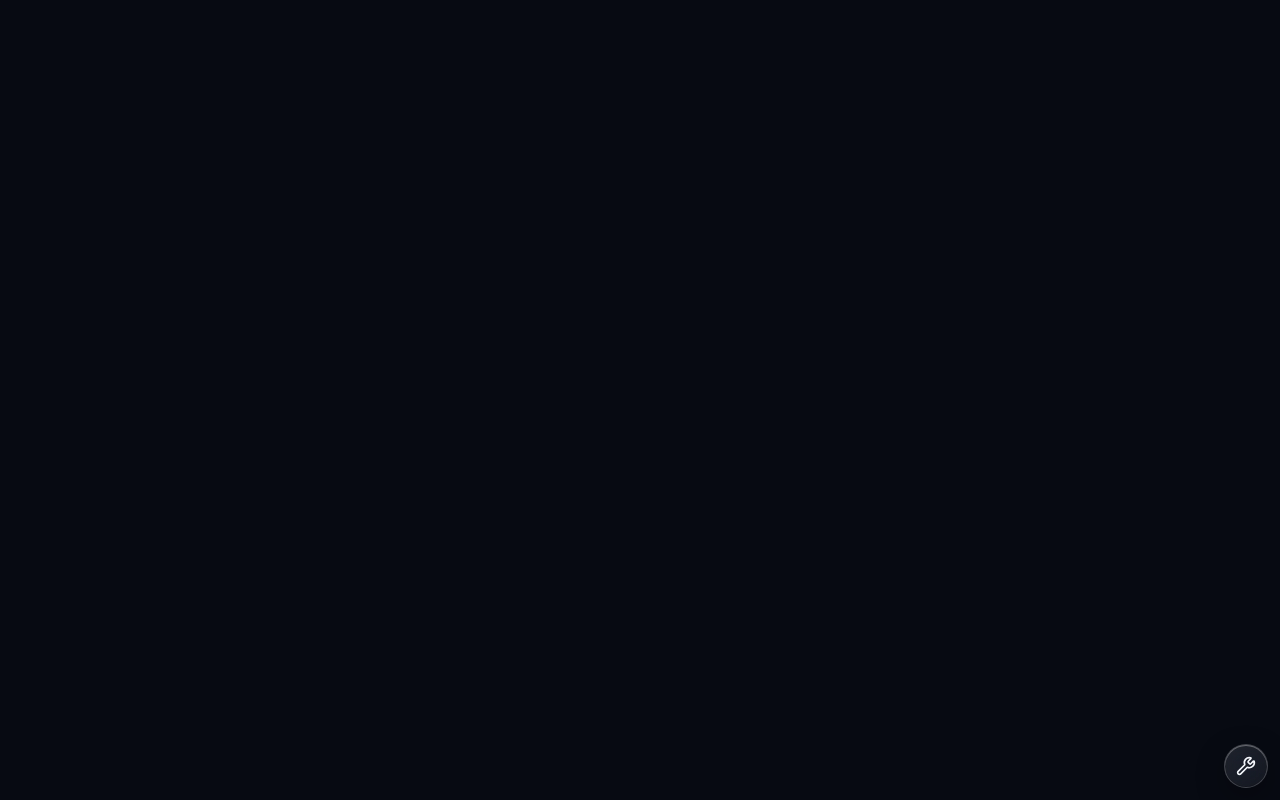
Test case: TestConsole › calls the health endpoint and lists its request ID
The width and height of the screenshot is (1280, 800).
Click the button named "Open dev test console": x=1246, y=766 [1224,744,1268,788]
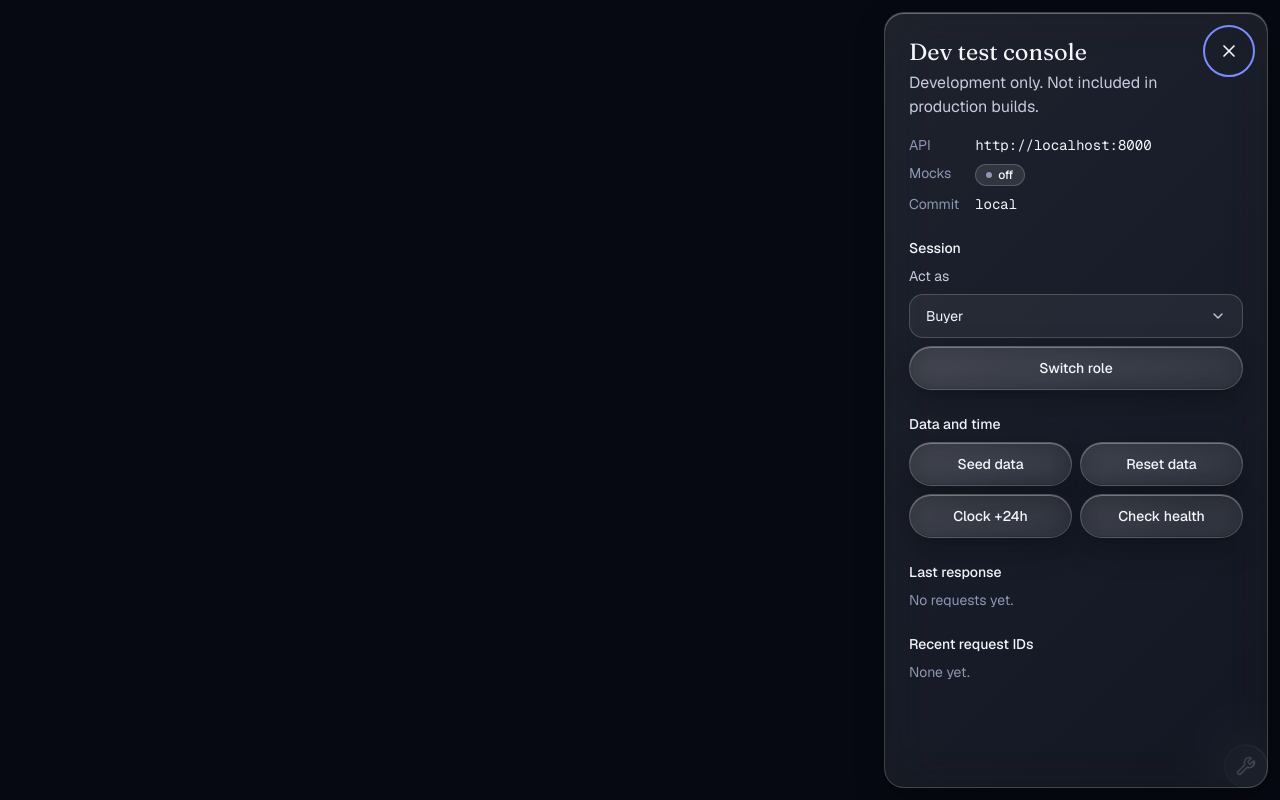
Click the button "Check health": x=1162, y=516 [1080,494,1243,538]
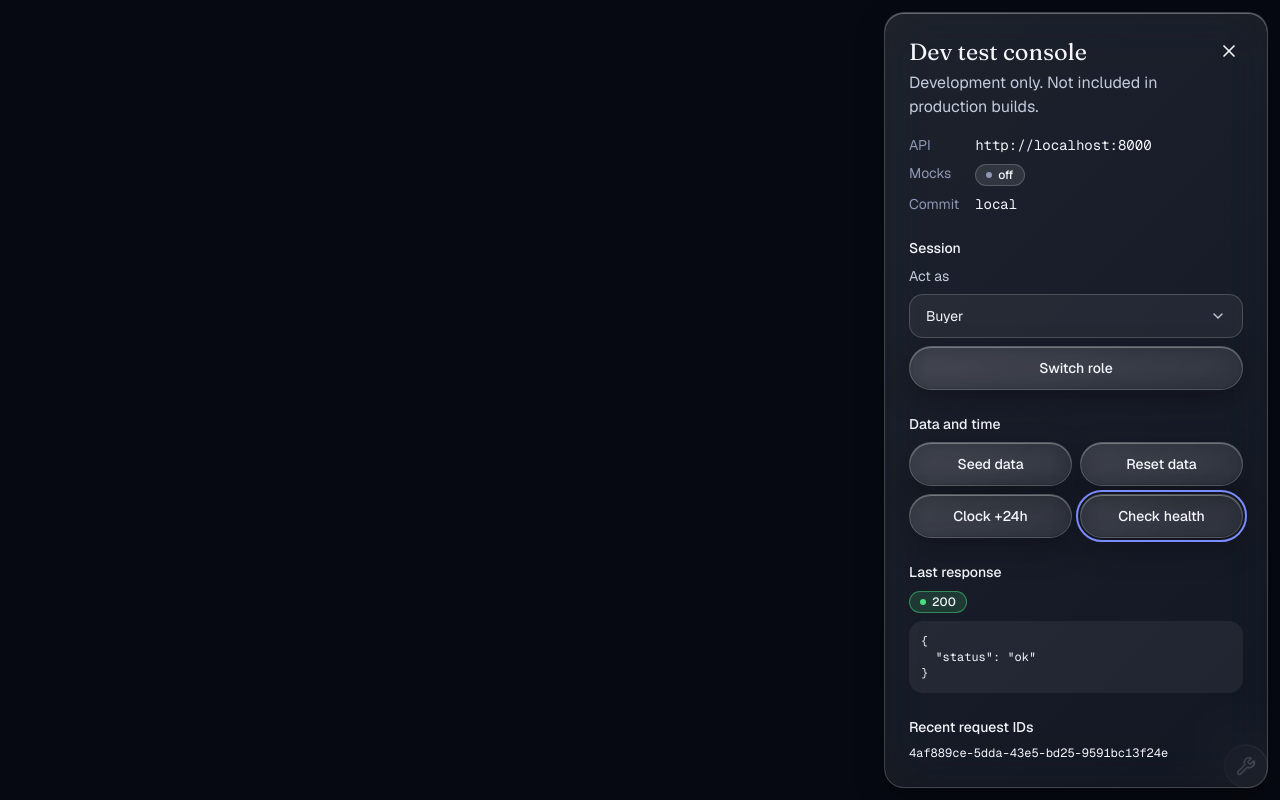
Result: the text "{ \"status\": \"ok\" }" is shown at [909,621,1243,693]
